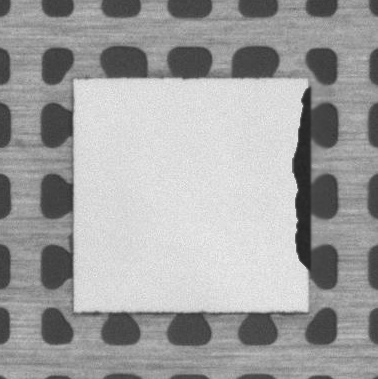DIE_BROKEN: (291, 81, 313, 274)
